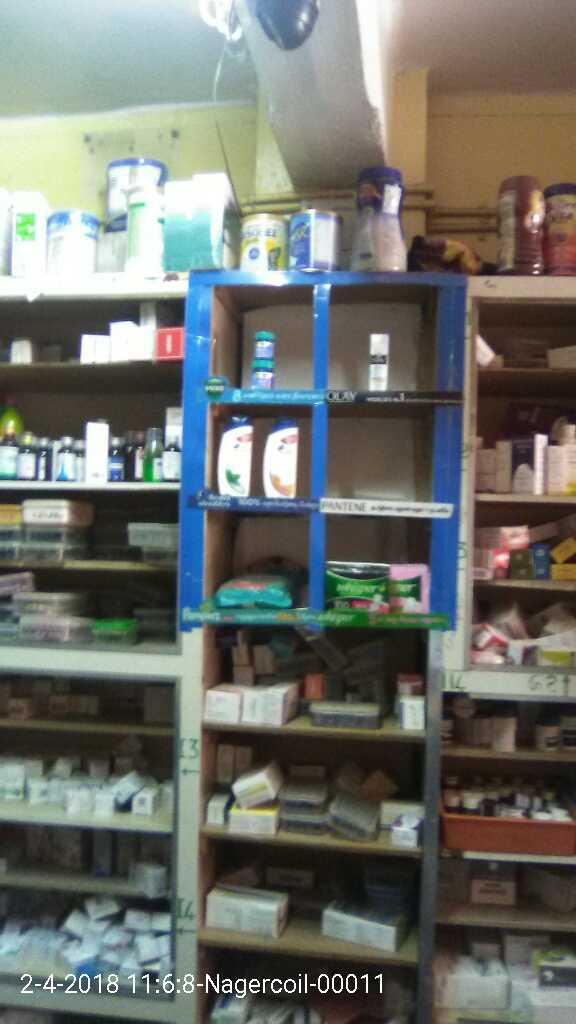vicks: (244, 326, 277, 394)
